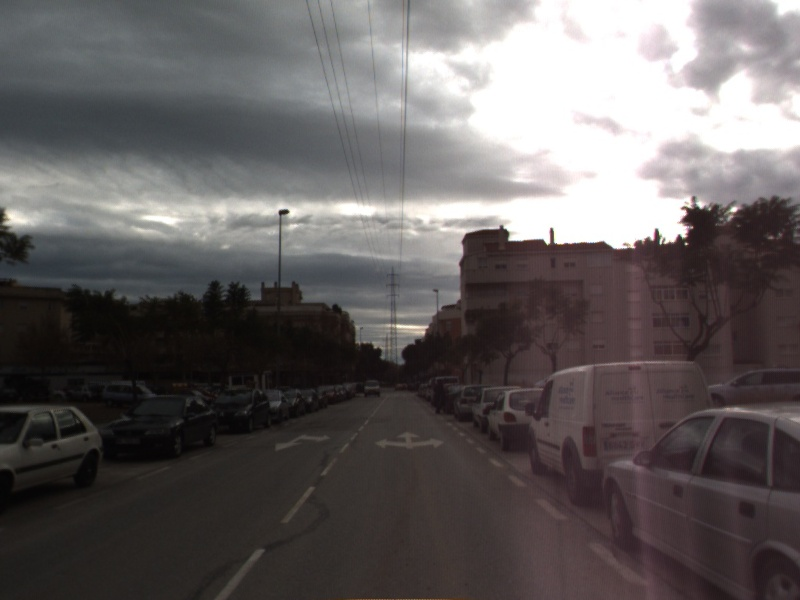STRAIGHT_LEFT_RIGHT: (372, 429, 447, 451)
